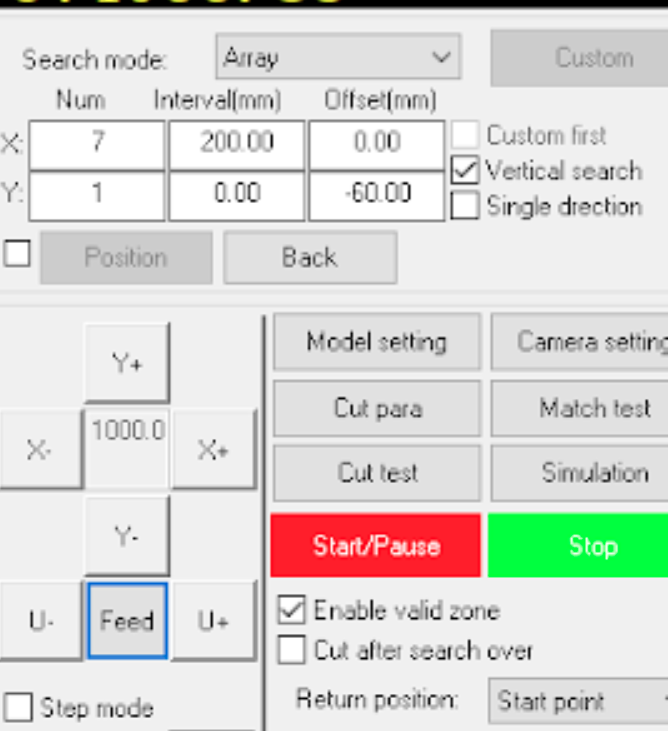start: (265, 512, 485, 582)
timer: (299, 81, 449, 218)
